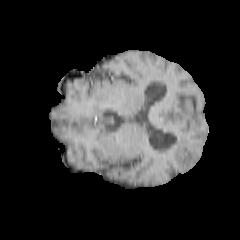glioma: (172, 135, 197, 165)
